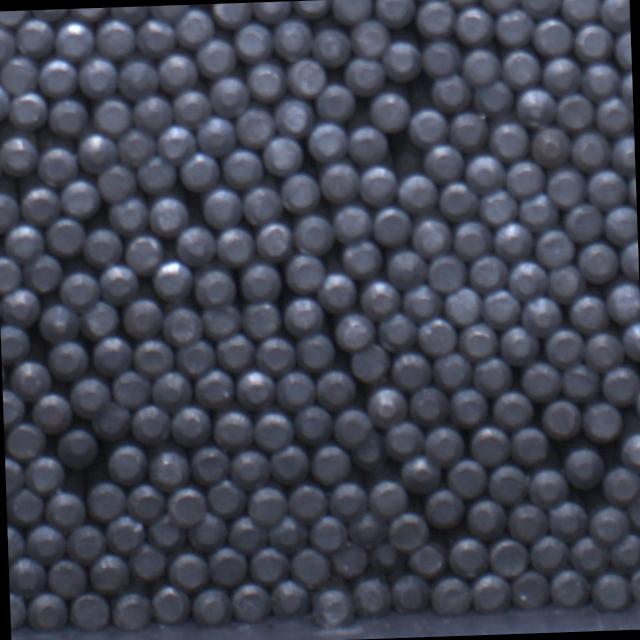tool: (106, 442, 148, 485), (334, 406, 377, 448), (562, 447, 604, 489), (446, 535, 488, 577), (488, 462, 530, 504), (306, 120, 348, 162), (368, 89, 410, 130), (271, 18, 312, 60), (31, 391, 73, 432), (118, 56, 159, 98), (531, 126, 572, 168), (320, 160, 361, 202), (467, 498, 508, 540), (77, 130, 118, 172), (368, 385, 409, 427), (520, 294, 561, 336), (425, 424, 467, 465), (176, 224, 218, 265), (212, 408, 254, 449), (386, 248, 427, 290), (310, 585, 352, 626), (293, 213, 334, 254), (501, 324, 542, 365), (518, 89, 559, 130), (431, 575, 472, 616), (148, 447, 189, 488), (121, 297, 162, 338), (359, 162, 399, 204), (262, 136, 304, 176), (576, 242, 618, 282), (24, 522, 66, 562), (446, 458, 488, 498), (202, 186, 242, 228), (282, 295, 324, 335), (279, 170, 319, 212), (220, 148, 262, 188), (57, 428, 99, 468), (94, 18, 134, 59), (487, 536, 528, 576), (472, 424, 512, 465), (287, 58, 328, 98), (46, 215, 87, 255), (87, 480, 128, 520), (69, 590, 110, 630), (89, 552, 130, 592), (111, 590, 152, 630), (179, 151, 219, 192), (362, 279, 402, 320), (172, 6, 212, 47), (347, 123, 388, 163), (92, 335, 133, 375), (49, 340, 90, 380), (380, 40, 420, 81), (398, 172, 439, 212), (27, 590, 68, 630), (541, 398, 582, 438), (69, 376, 110, 416), (270, 580, 311, 620), (155, 260, 196, 300), (548, 504, 589, 544), (448, 110, 489, 150), (466, 152, 506, 193), (239, 261, 280, 301), (518, 191, 560, 230), (431, 73, 473, 112), (587, 168, 627, 208), (208, 546, 248, 586), (311, 26, 351, 66), (210, 76, 250, 116), (54, 18, 94, 58), (510, 570, 550, 610), (256, 408, 296, 448), (174, 405, 214, 445), (234, 106, 274, 146), (348, 18, 388, 58), (290, 546, 330, 586), (150, 583, 190, 623), (315, 369, 355, 409), (195, 116, 235, 156), (78, 56, 118, 96), (546, 328, 586, 368), (168, 484, 208, 524), (372, 206, 412, 246), (160, 52, 200, 92), (454, 217, 494, 257), (98, 263, 138, 303), (584, 330, 624, 370), (390, 572, 430, 612), (128, 482, 168, 522), (150, 196, 190, 236), (272, 96, 312, 136), (247, 484, 287, 524), (491, 119, 531, 159), (232, 581, 272, 621), (412, 217, 452, 257), (234, 22, 274, 62), (333, 202, 373, 242), (408, 106, 448, 146), (132, 404, 172, 444), (536, 226, 576, 266), (572, 131, 612, 171), (439, 180, 479, 220), (508, 502, 548, 542), (284, 254, 324, 294), (312, 442, 352, 482), (508, 258, 548, 298), (425, 142, 465, 182), (528, 466, 568, 506), (426, 487, 466, 527), (191, 586, 231, 626), (351, 576, 391, 616), (387, 511, 428, 550), (531, 535, 572, 574), (550, 569, 591, 608), (481, 287, 520, 328), (287, 482, 328, 521), (105, 515, 146, 554), (342, 240, 383, 279), (231, 448, 272, 487), (187, 511, 228, 550), (344, 55, 384, 94), (469, 574, 509, 613), (583, 401, 623, 440), (48, 557, 88, 596), (10, 358, 50, 397), (418, 316, 457, 356), (547, 168, 587, 207), (168, 551, 208, 590), (247, 60, 286, 100), (522, 362, 562, 401), (474, 355, 514, 394), (96, 162, 135, 202), (276, 369, 316, 408), (378, 312, 418, 351), (493, 221, 533, 260), (569, 535, 609, 574), (236, 368, 276, 407), (39, 303, 79, 342), (136, 156, 176, 195), (330, 480, 369, 520), (386, 419, 426, 458), (93, 401, 133, 440), (128, 542, 168, 581), (134, 338, 175, 376), (588, 503, 629, 541), (193, 268, 234, 306), (125, 234, 164, 273), (511, 425, 550, 464), (22, 458, 62, 496), (506, 157, 546, 195), (429, 255, 469, 293), (20, 186, 60, 224), (40, 56, 78, 96), (38, 146, 78, 184), (470, 254, 510, 292), (134, 18, 174, 56), (195, 37, 235, 75), (502, 48, 542, 86), (454, 6, 494, 44), (117, 128, 157, 166), (66, 524, 106, 562), (113, 370, 153, 408), (59, 270, 99, 308), (564, 202, 604, 240), (154, 124, 194, 162), (270, 444, 310, 482), (248, 546, 288, 584), (422, 40, 462, 78), (572, 24, 612, 62), (46, 490, 86, 528), (366, 478, 406, 516), (320, 270, 358, 310), (410, 386, 450, 424), (207, 478, 247, 516), (349, 342, 389, 380), (316, 83, 356, 121), (162, 306, 202, 344), (495, 8, 535, 46), (196, 369, 236, 407), (201, 300, 241, 338), (5, 422, 46, 459), (494, 391, 535, 428), (402, 283, 443, 320), (0, 134, 36, 176), (15, 18, 54, 56), (60, 178, 98, 217), (10, 91, 49, 129), (443, 286, 482, 324), (534, 16, 573, 54), (3, 222, 42, 260), (244, 185, 282, 224), (0, 287, 39, 325), (461, 47, 500, 85), (8, 557, 46, 596), (542, 55, 580, 94), (192, 444, 231, 482), (81, 299, 120, 337), (85, 227, 124, 265), (177, 338, 216, 376), (435, 350, 474, 388), (603, 364, 640, 404), (336, 311, 376, 348), (393, 351, 433, 388), (582, 61, 622, 98), (132, 92, 172, 129), (230, 515, 270, 552), (110, 195, 150, 232), (270, 517, 310, 554), (150, 368, 191, 404), (605, 281, 640, 323), (310, 514, 348, 552), (330, 540, 368, 578), (216, 226, 254, 264), (50, 98, 88, 136), (450, 386, 488, 424), (596, 95, 634, 133), (146, 512, 184, 550), (243, 301, 282, 338), (92, 96, 132, 132), (460, 322, 500, 358), (256, 336, 296, 372), (478, 188, 518, 224), (0, 56, 37, 94), (255, 220, 292, 258), (174, 86, 212, 123), (218, 334, 256, 371), (294, 405, 332, 442), (590, 572, 629, 608), (349, 514, 388, 550), (22, 255, 59, 292), (569, 296, 606, 333), (556, 94, 594, 130), (297, 332, 335, 368), (562, 362, 600, 398), (603, 465, 640, 501), (417, 0, 457, 33), (474, 80, 514, 113), (8, 488, 44, 524), (408, 542, 446, 576), (606, 204, 638, 244), (548, 264, 582, 298), (611, 533, 640, 570), (374, 0, 415, 26), (0, 324, 29, 359), (210, 2, 250, 26), (330, 0, 372, 22), (612, 134, 635, 174), (2, 388, 26, 426), (600, 0, 630, 29), (250, 1, 291, 22), (561, 0, 599, 21), (4, 456, 24, 494), (620, 429, 640, 467), (622, 318, 640, 360), (0, 256, 20, 293), (620, 238, 638, 279), (290, 0, 333, 17), (0, 192, 18, 232), (109, 6, 150, 23), (7, 522, 24, 562), (146, 4, 188, 20), (521, 0, 562, 16), (615, 29, 631, 70), (10, 591, 26, 630), (627, 491, 640, 531), (0, 23, 13, 62), (68, 8, 110, 20), (629, 565, 640, 607), (29, 9, 70, 20), (620, 66, 632, 103), (0, 10, 29, 24), (479, 0, 519, 10), (0, 80, 9, 121), (442, 0, 481, 5)
